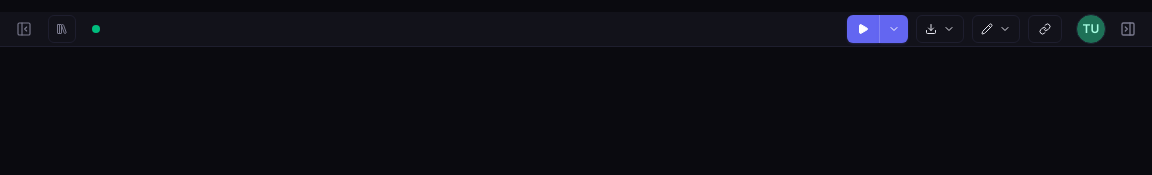
Test: Toolbar › renders clear output action in compile menu and disables it without compiled output
Click the button named "Compile options" at (894, 29), box [879,15,908,43]
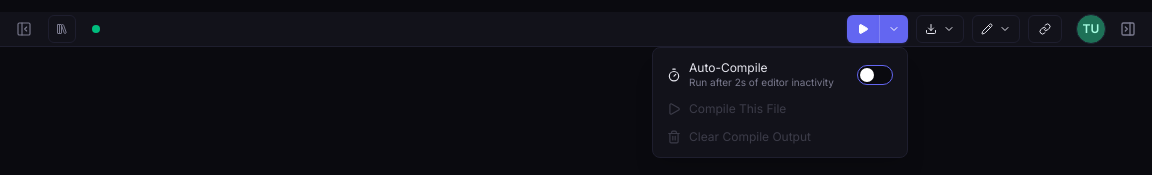
Check: the menu item "Clear Compile Output" is disabled, box [659,123,901,151]
